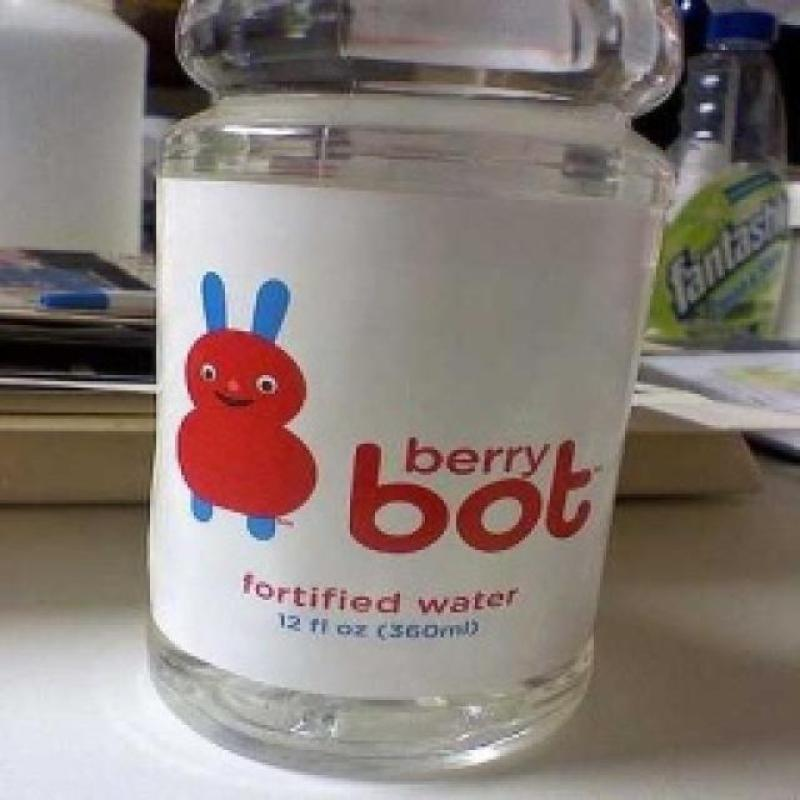botella: (150, 0, 688, 785), (638, 9, 794, 360)
